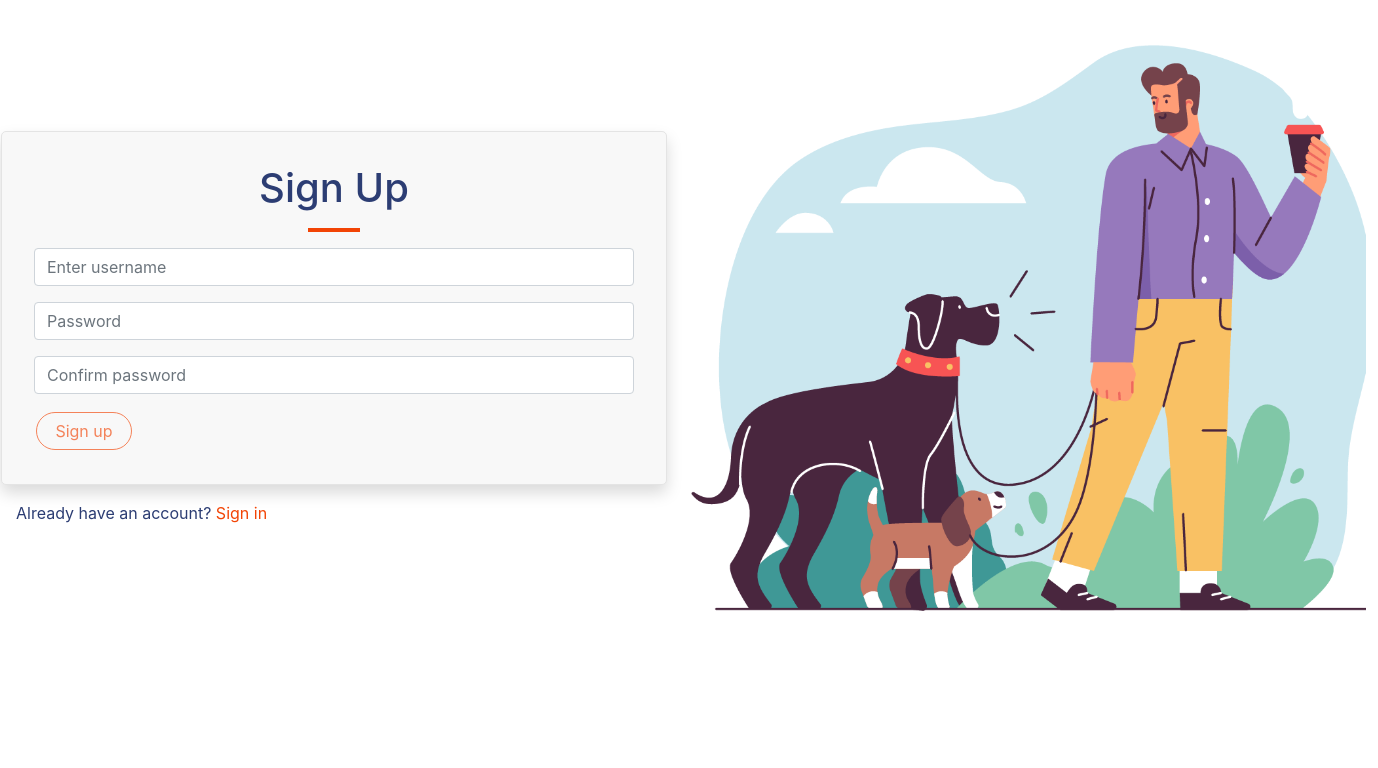
button is not disabled if signup inputs are filled
Type "Maja" into the field with placeholder "Enter username" at (334, 267), box x1=34 y1=248 x2=634 y2=286
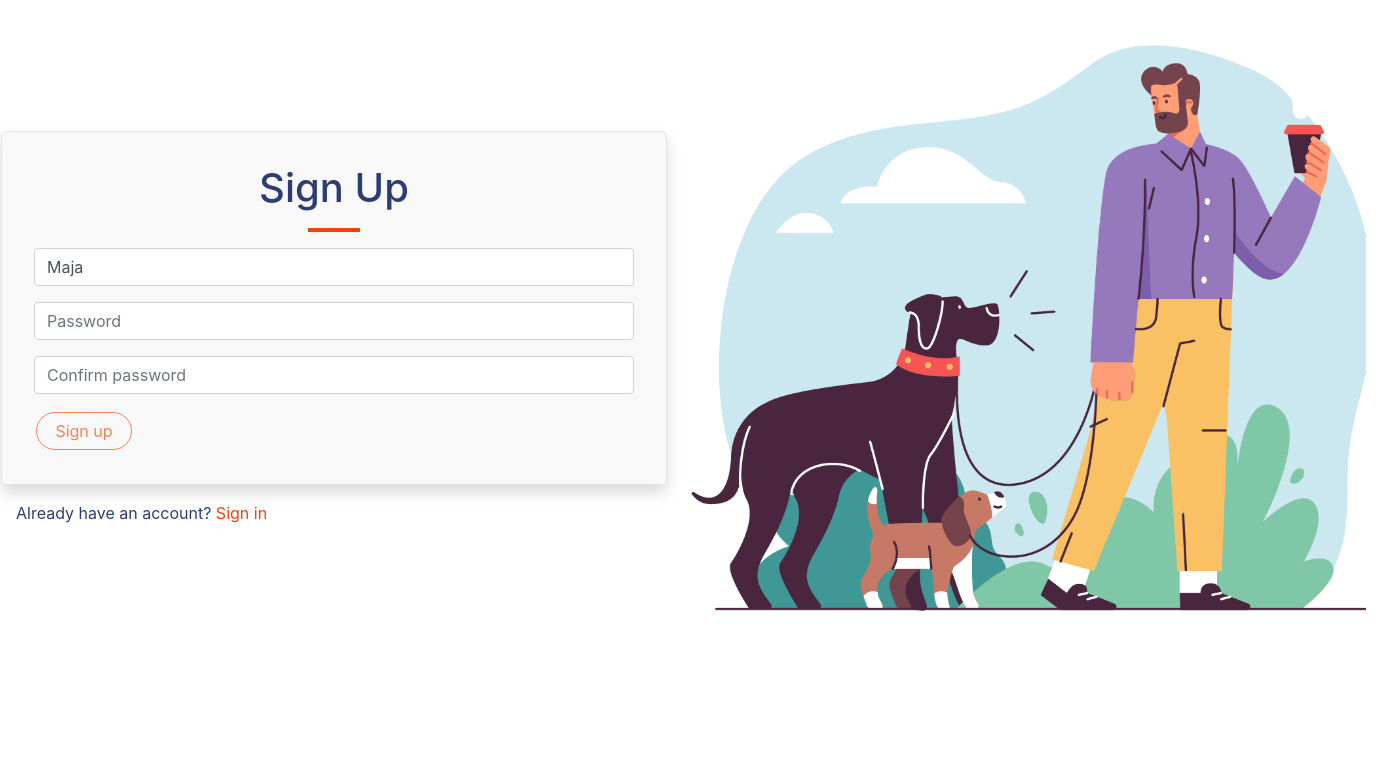
Type "password" into the password field with placeholder "Password" at (334, 321), box x1=34 y1=302 x2=634 y2=340
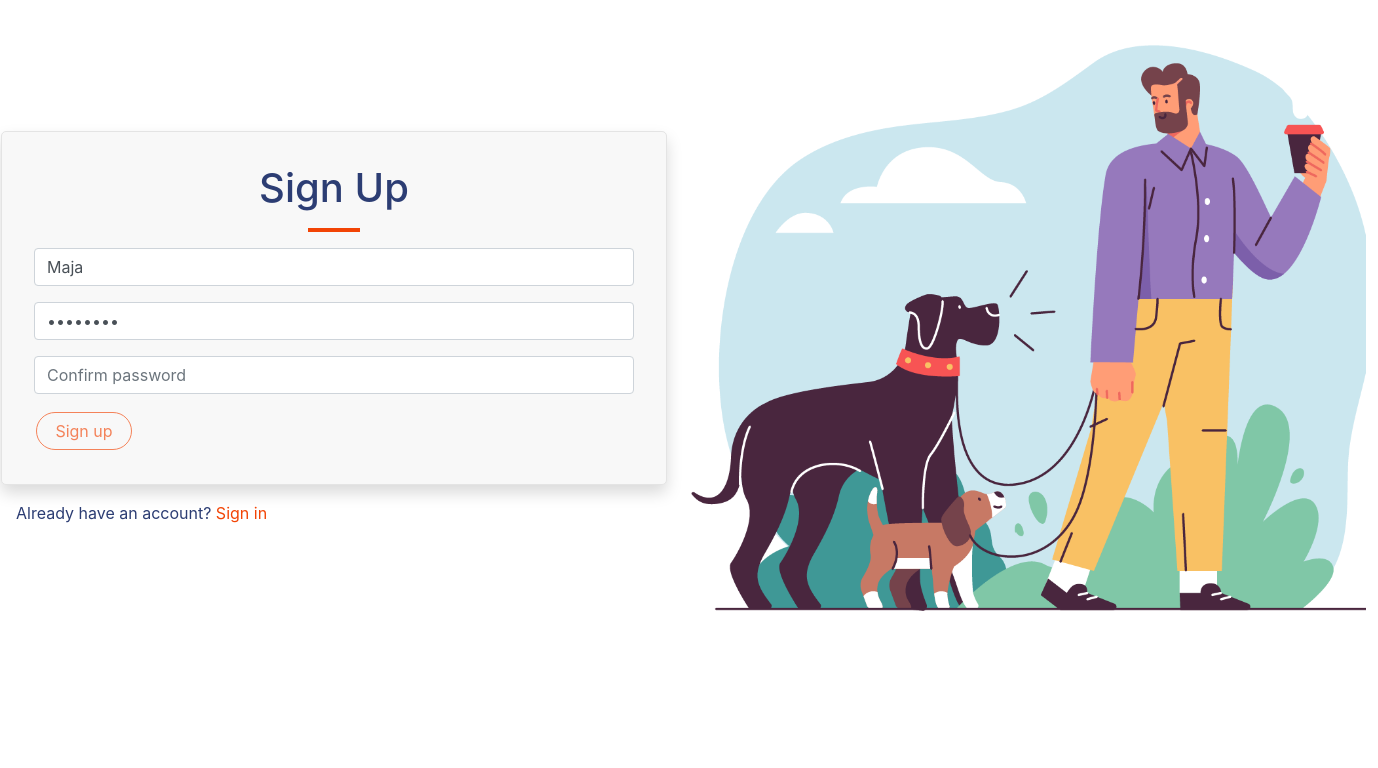
Type "thisismypassword" into the password field with placeholder "Confirm password" at (334, 375), box x1=34 y1=356 x2=634 y2=394
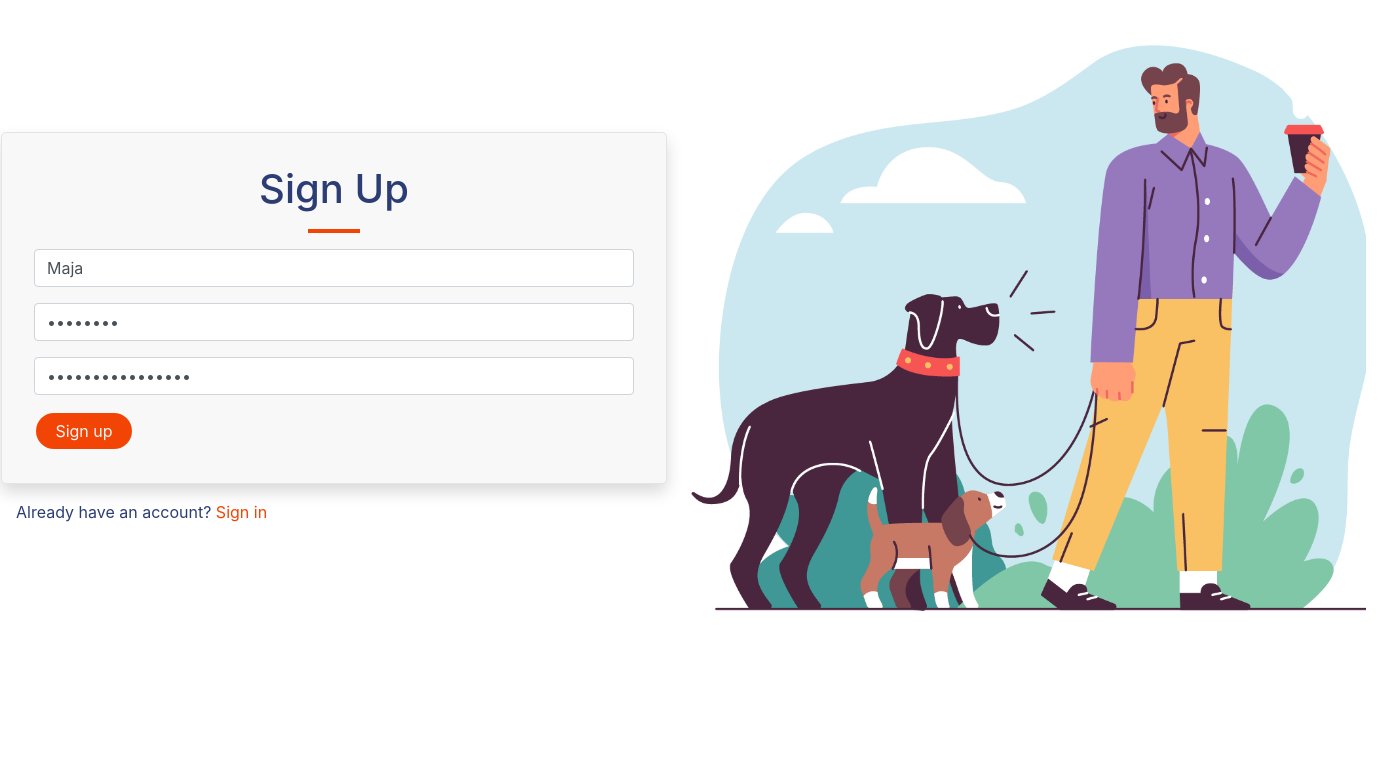
expect the button "Sign up" is enabled: met, box x1=36 y1=413 x2=132 y2=449
